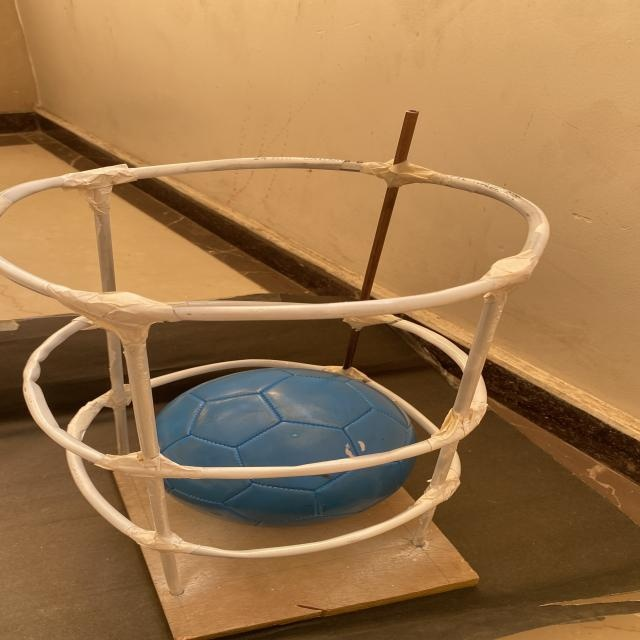blue_ball: (136, 365, 414, 526)
silo: (0, 152, 507, 630)
